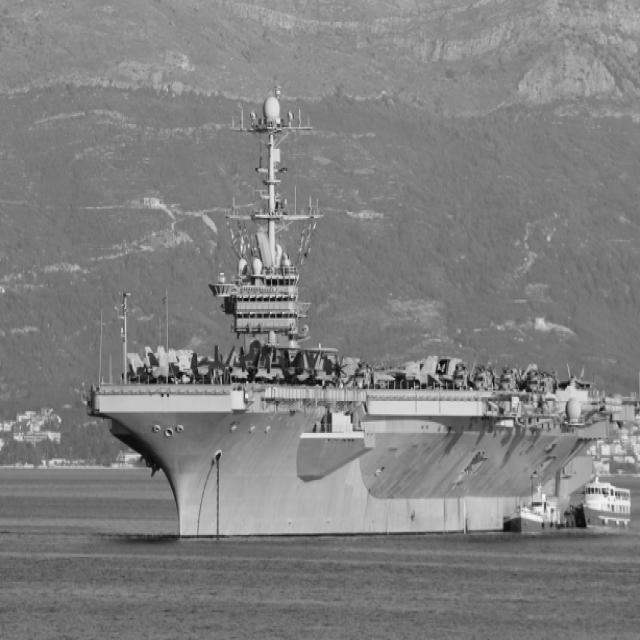Portanaves: (83, 79, 640, 547)
